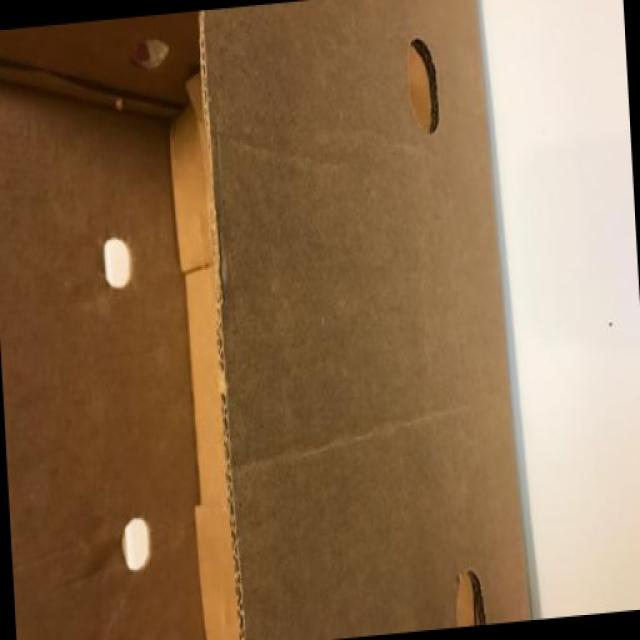carton: (76, 5, 432, 640)
